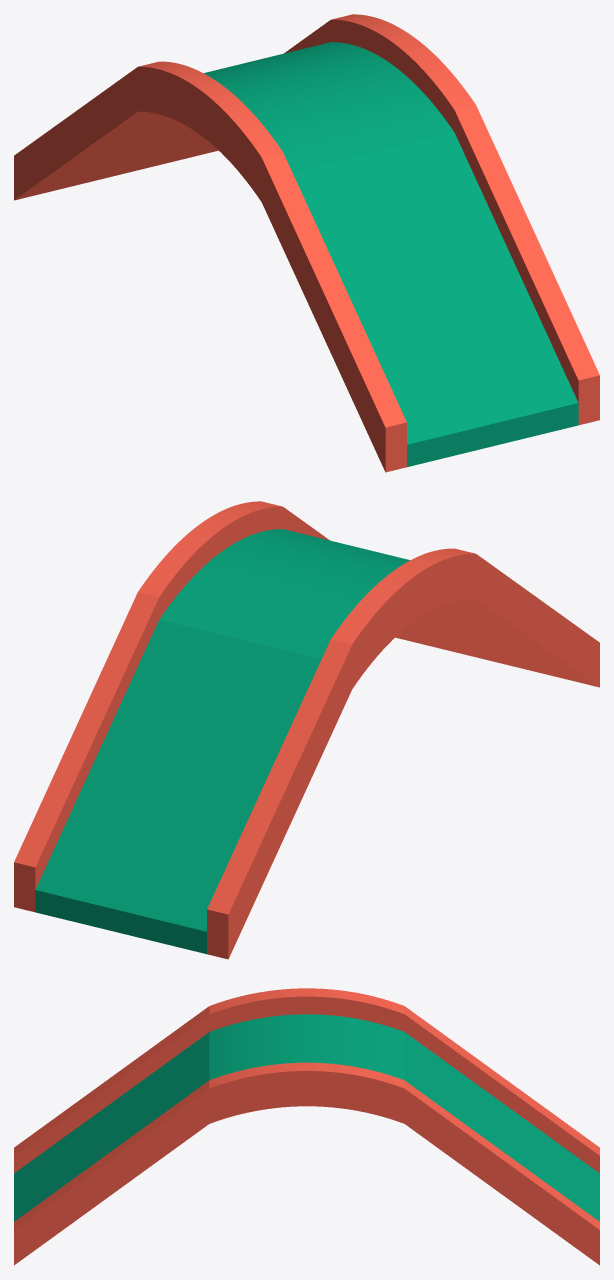
The model's file is normalBridge.fbx.
3 renders of one model, top to bottom at view 1: azimuth 30°, elevation 25°; view 2: azimuth 150°, elevation 25°; view 3: azimuth 270°, elevation 25°, orthographic. The views are drawn at different scales.
Visible parts, largest first — view 1: mergedBlocks; view 2: mergedBlocks; view 3: mergedBlocks.
Boxes of the visible parts, <box> form: mergedBlocks: <box>14,14,599,472</box>; mergedBlocks: <box>14,501,599,959</box>; mergedBlocks: <box>14,988,599,1265</box>.
Bounding box in the file's own units: 10 × 11 × 30.
